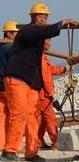boots: (0, 151, 18, 160), (24, 153, 44, 161)
gloves: (67, 55, 77, 64), (0, 57, 6, 70)
hard-hat: (2, 21, 19, 30)
ppe-suit: (0, 37, 28, 157)
